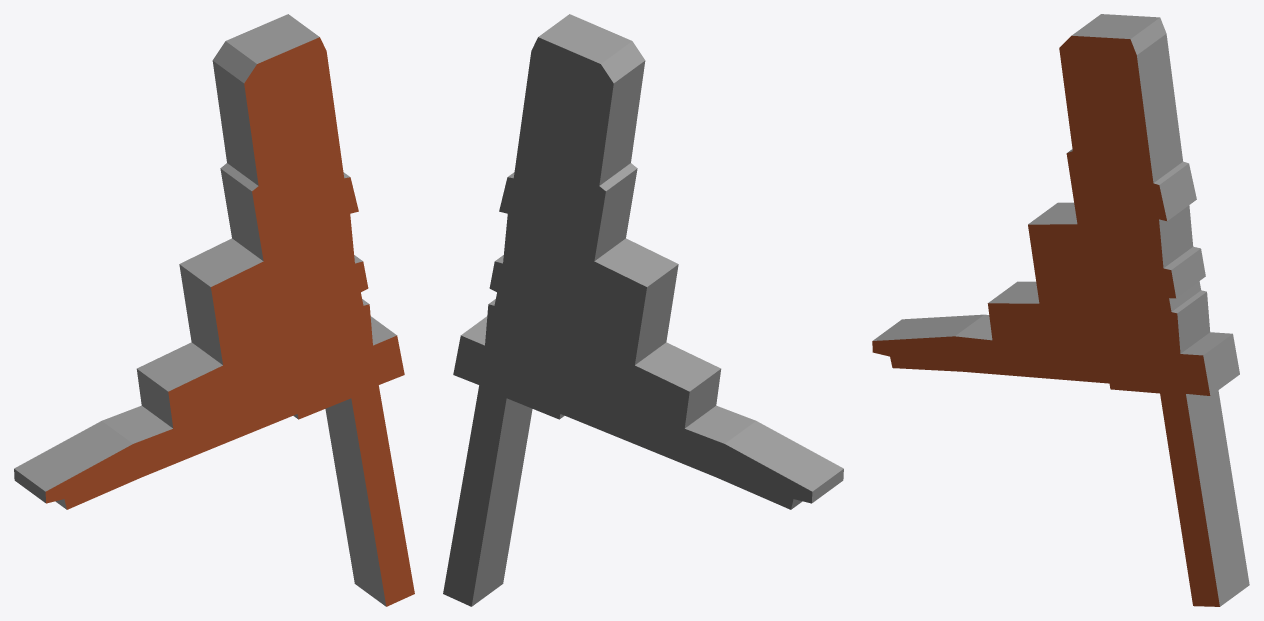
File: construction_1517_assumed_A_Casa_h6m.obj
3 views of the same model, side by side, from view 1: azimuth 30°, elevation 25°; view 2: azimuth 150°, elevation 25°; view 3: azimuth 330°, elevation 25° (orthographic). The views are drawn at different scales.
Parts seen in each view (by area): view 1: construction_1517_assumed_A_Casa; view 2: construction_1517_assumed_A_Casa; view 3: construction_1517_assumed_A_Casa.
Part boxes in pixels (x1=…): construction_1517_assumed_A_Casa: x1=14, y1=14, x2=414, y2=606; construction_1517_assumed_A_Casa: x1=443, y1=14, x2=843, y2=606; construction_1517_assumed_A_Casa: x1=872, y1=14, x2=1249, y2=606.
Bounding box in the file's own units: 40.51 × 61.42 × 6.
